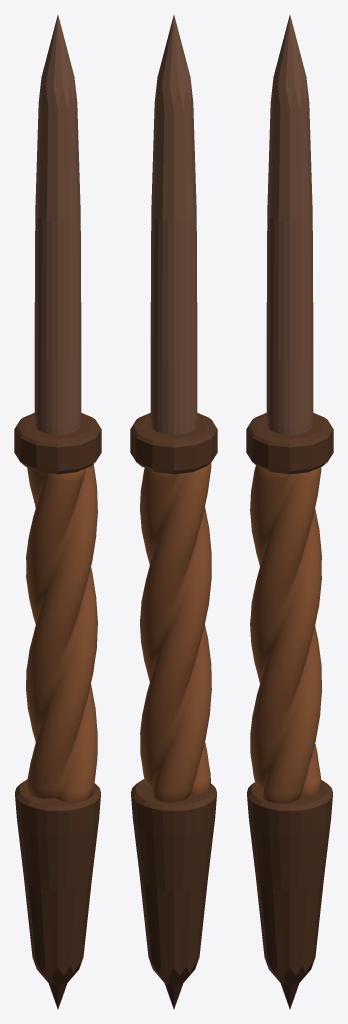
The model's file is Wand 802.glb.
3 renders of one model, left to right at view 1: azimuth 90°, elevation 25°; view 2: azimuth 150°, elevation 25°; view 3: azimuth 270°, elevation 25°, orthographic.
Parts seen in each view (by area): view 1: GeneratedWand; view 2: GeneratedWand; view 3: GeneratedWand.
Boxes of the visible parts, x1,y1,x2,y2 form: GeneratedWand: (14,15,101,1009); GeneratedWand: (130,15,217,1009); GeneratedWand: (246,15,333,1009).
Bounding box in the file's own units: 0.0398 × 0.5014 × 0.0398.
